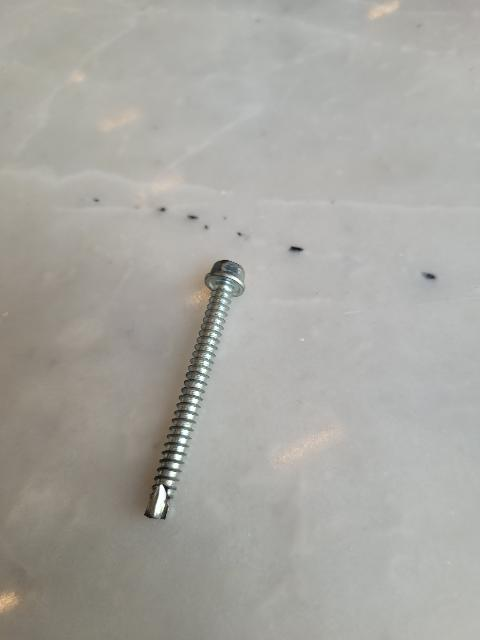Metal: (135, 247, 272, 554)
